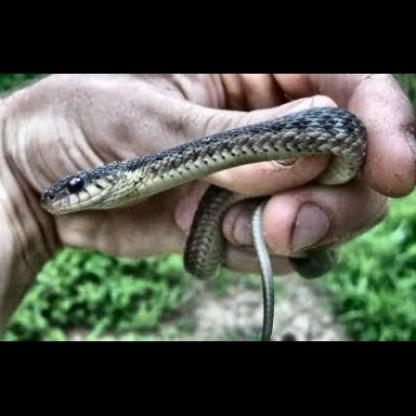Snake: (28, 102, 378, 282)
